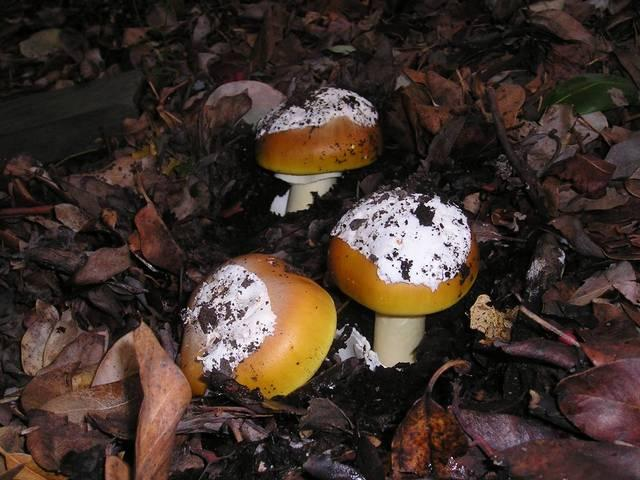edible_mushroom: (326, 186, 480, 368), (177, 251, 337, 401), (252, 85, 382, 217)
